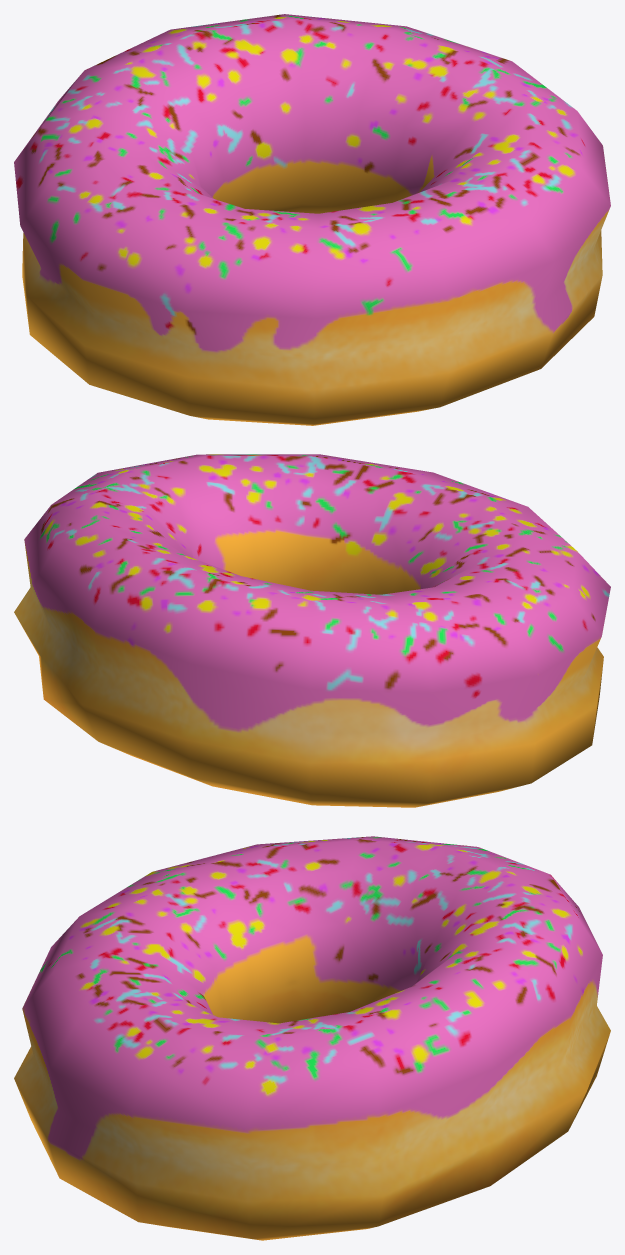
Rendered from donutwithsparklepink.glb.
3 renders of one model, top to bottom at view 1: azimuth 30°, elevation 25°; view 2: azimuth 150°, elevation 25°; view 3: azimuth 270°, elevation 25°, orthographic. The views are drawn at different scales.
Parts seen in each view (by area): view 1: donutwithsparklepink; view 2: donutwithsparklepink; view 3: donutwithsparklepink.
Part boxes in pixels (bbox=[...]): donutwithsparklepink: bbox=[14, 14, 610, 425]; donutwithsparklepink: bbox=[14, 454, 610, 807]; donutwithsparklepink: bbox=[14, 836, 610, 1240].
Size of the model in its own units: 0.2504 by 0.1033 by 0.2371.
1 material, 1 textured.
